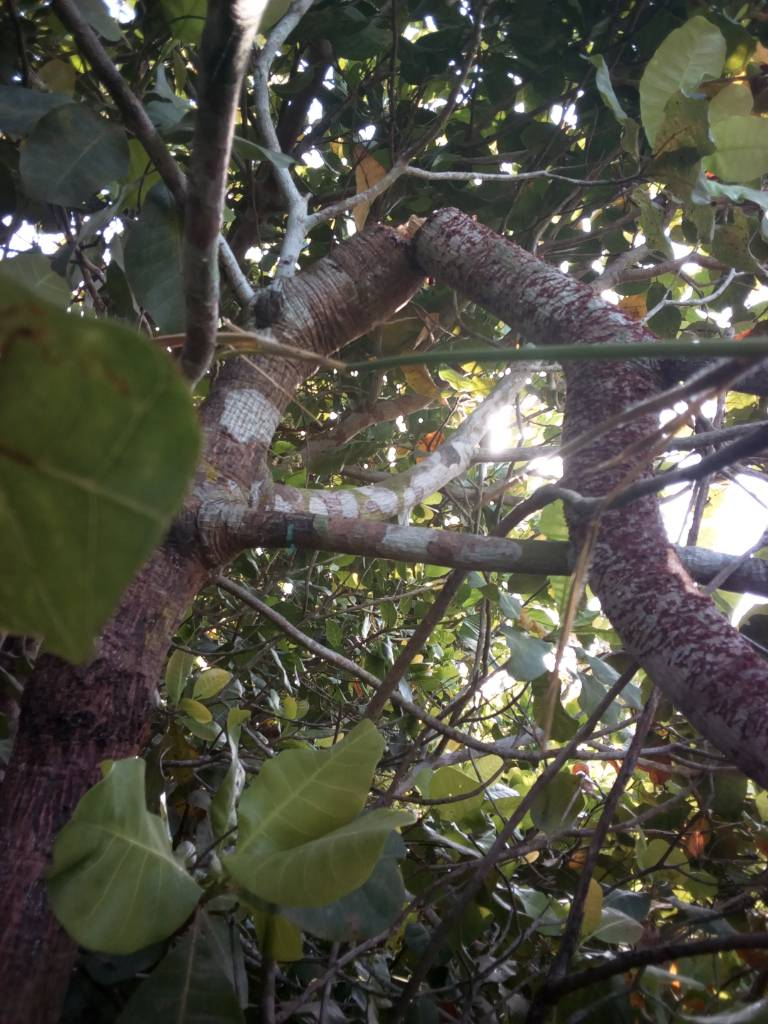Analepse trifasciata: (341, 199, 483, 288)
